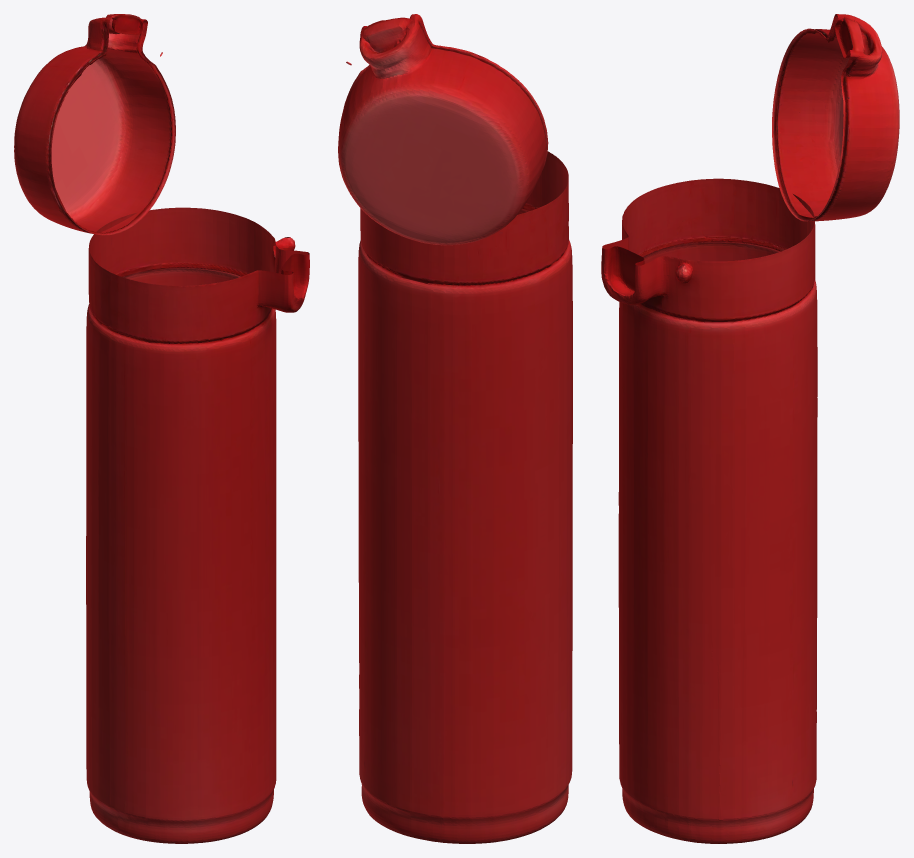
3 views of the same model, side by side, from view 1: azimuth 30°, elevation 25°; view 2: azimuth 150°, elevation 25°; view 3: azimuth 270°, elevation 25° (orthographic). The views are drawn at different scales.
Parts seen in each view (by area): view 1: geometry_0, visual__1__flip_lid; view 2: geometry_0, visual__1__flip_lid; view 3: geometry_0, visual__1__flip_lid.
Part boxes in pixels (<box>): geometry_0: <box>86,207,309,843</box>; visual__1__flip_lid: <box>14,14,175,235</box>; geometry_0: <box>358,151,572,843</box>; visual__1__flip_lid: <box>338,14,548,245</box>; geometry_0: <box>601,178,817,843</box>; visual__1__flip_lid: <box>772,14,899,221</box>.
Size of the model in its own units: 0.1047 by 0.3618 by 0.1247.
1 material, 1 textured.
